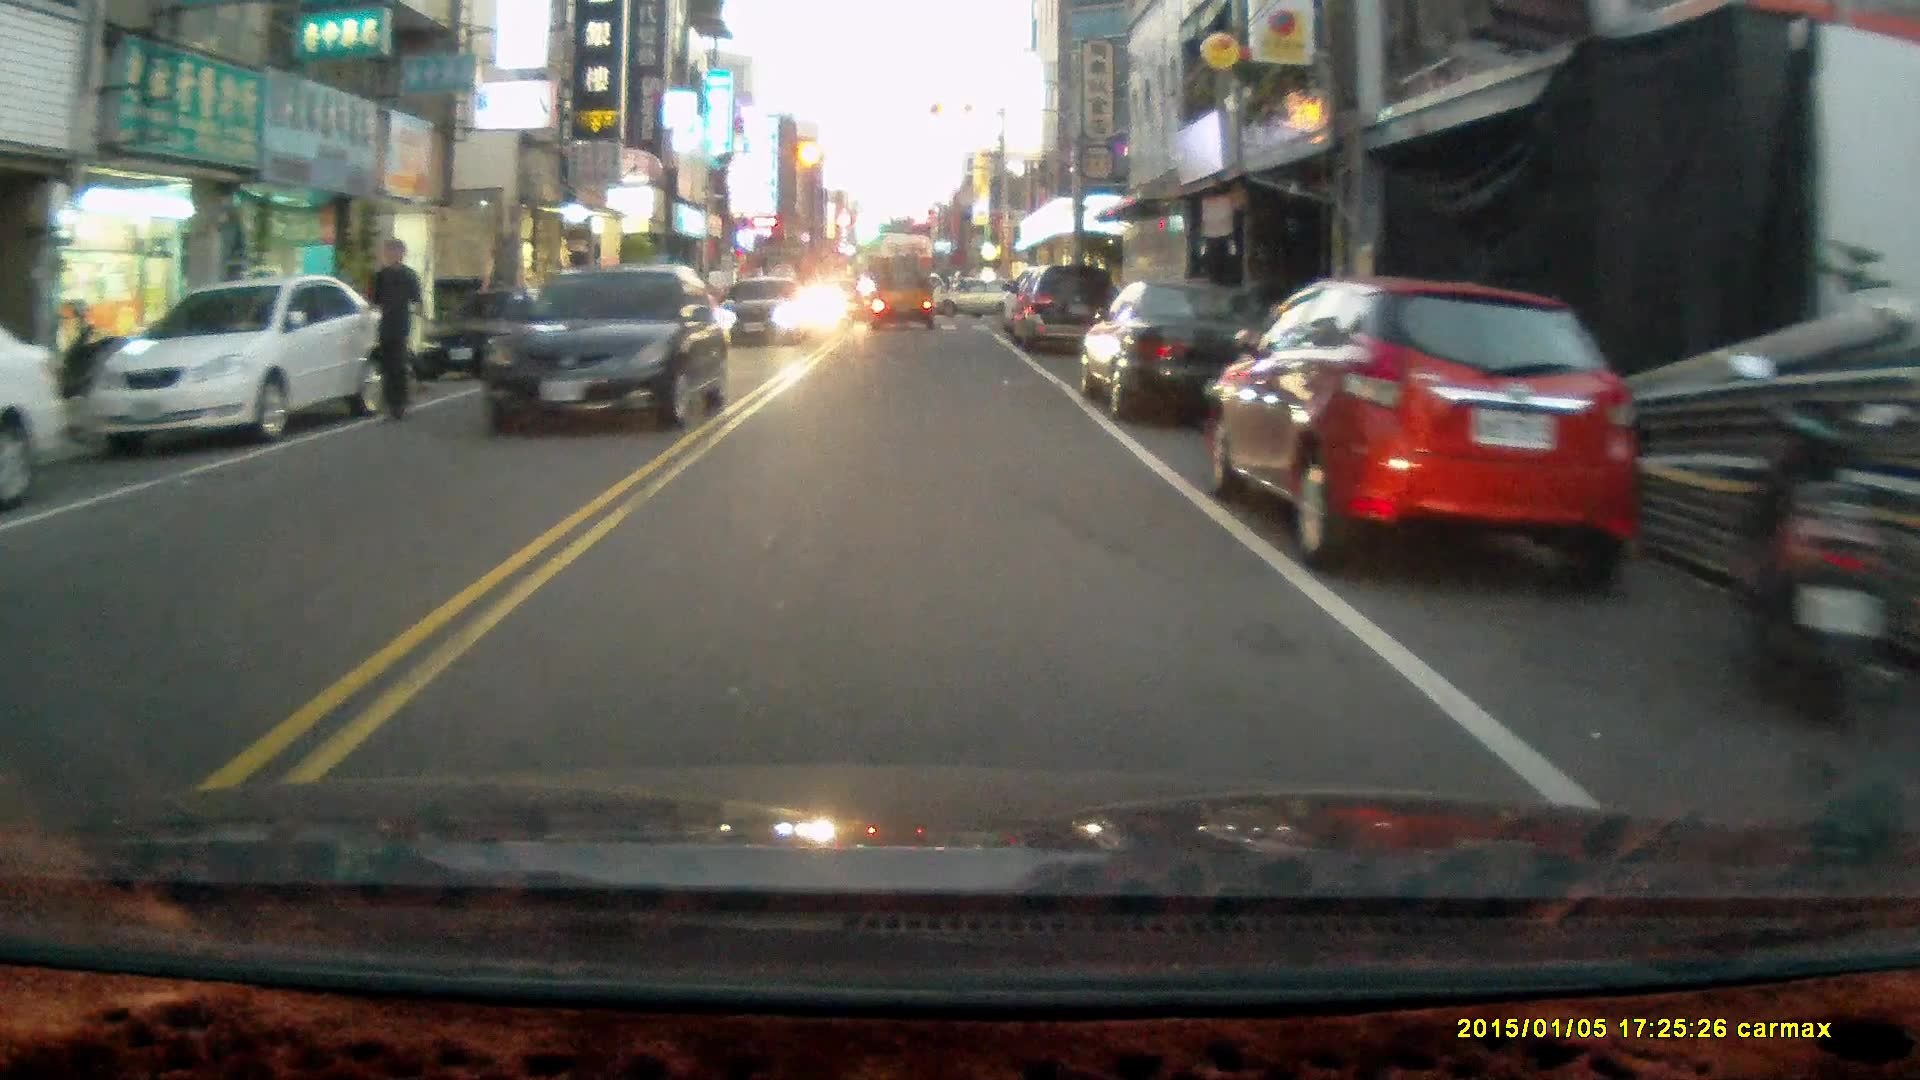pedestrian: (356, 236, 429, 424)
vehicle: (1212, 281, 1642, 593), (88, 272, 382, 447), (472, 261, 732, 432), (1079, 282, 1287, 427), (1, 309, 79, 515), (426, 290, 572, 391), (1001, 266, 1127, 359), (715, 279, 805, 349), (870, 262, 939, 339)
